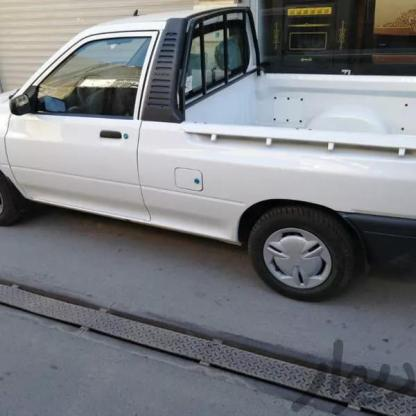Car: (0, 0, 416, 311)
